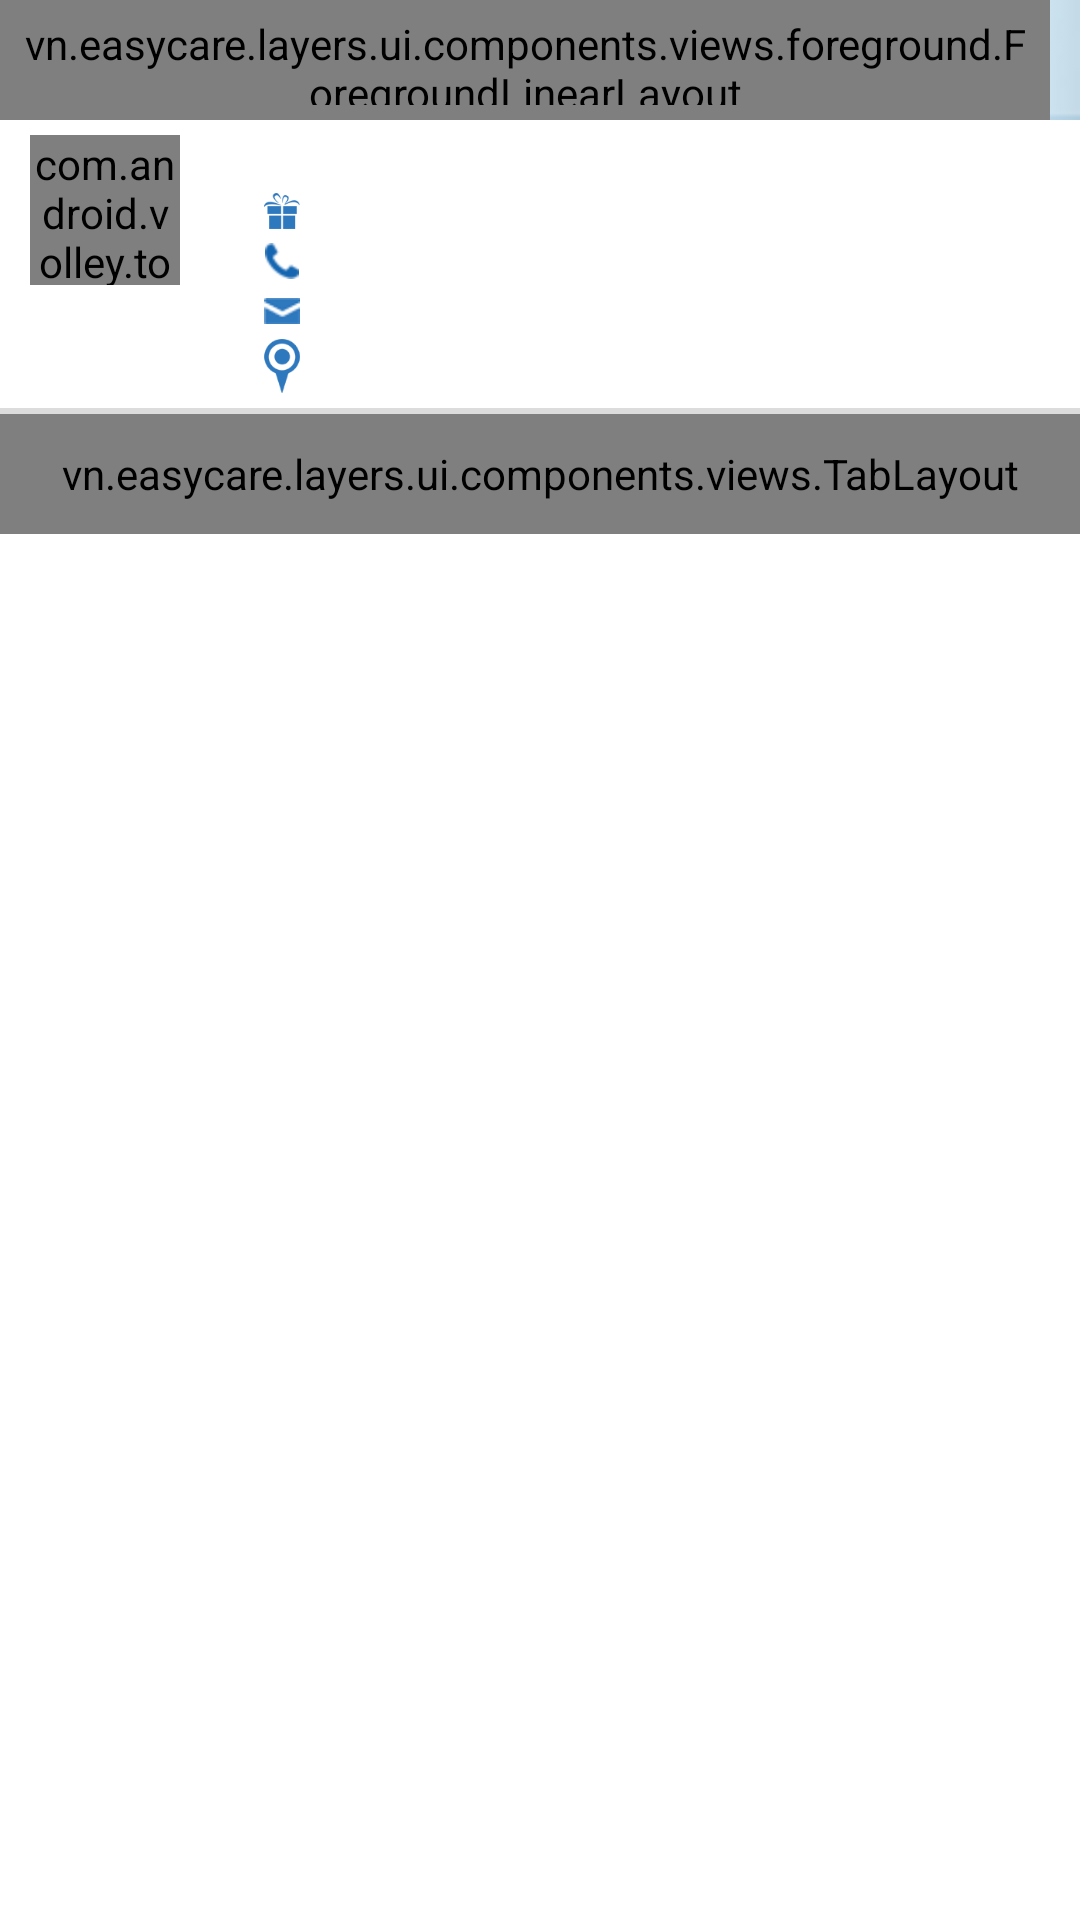

Point at icon controls on the screen. Image size 1080x1920, points as [x,y].
birthday: [282,211]
email: [282,311]
location: [282,366]
phone: [282,261]
